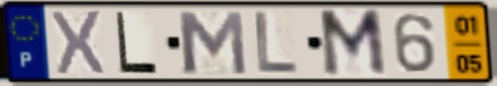6: (390, 11, 439, 75)
L: (253, 9, 300, 77), (113, 10, 160, 76)
M: (316, 7, 390, 80), (173, 9, 251, 77)
X: (49, 8, 108, 78)
